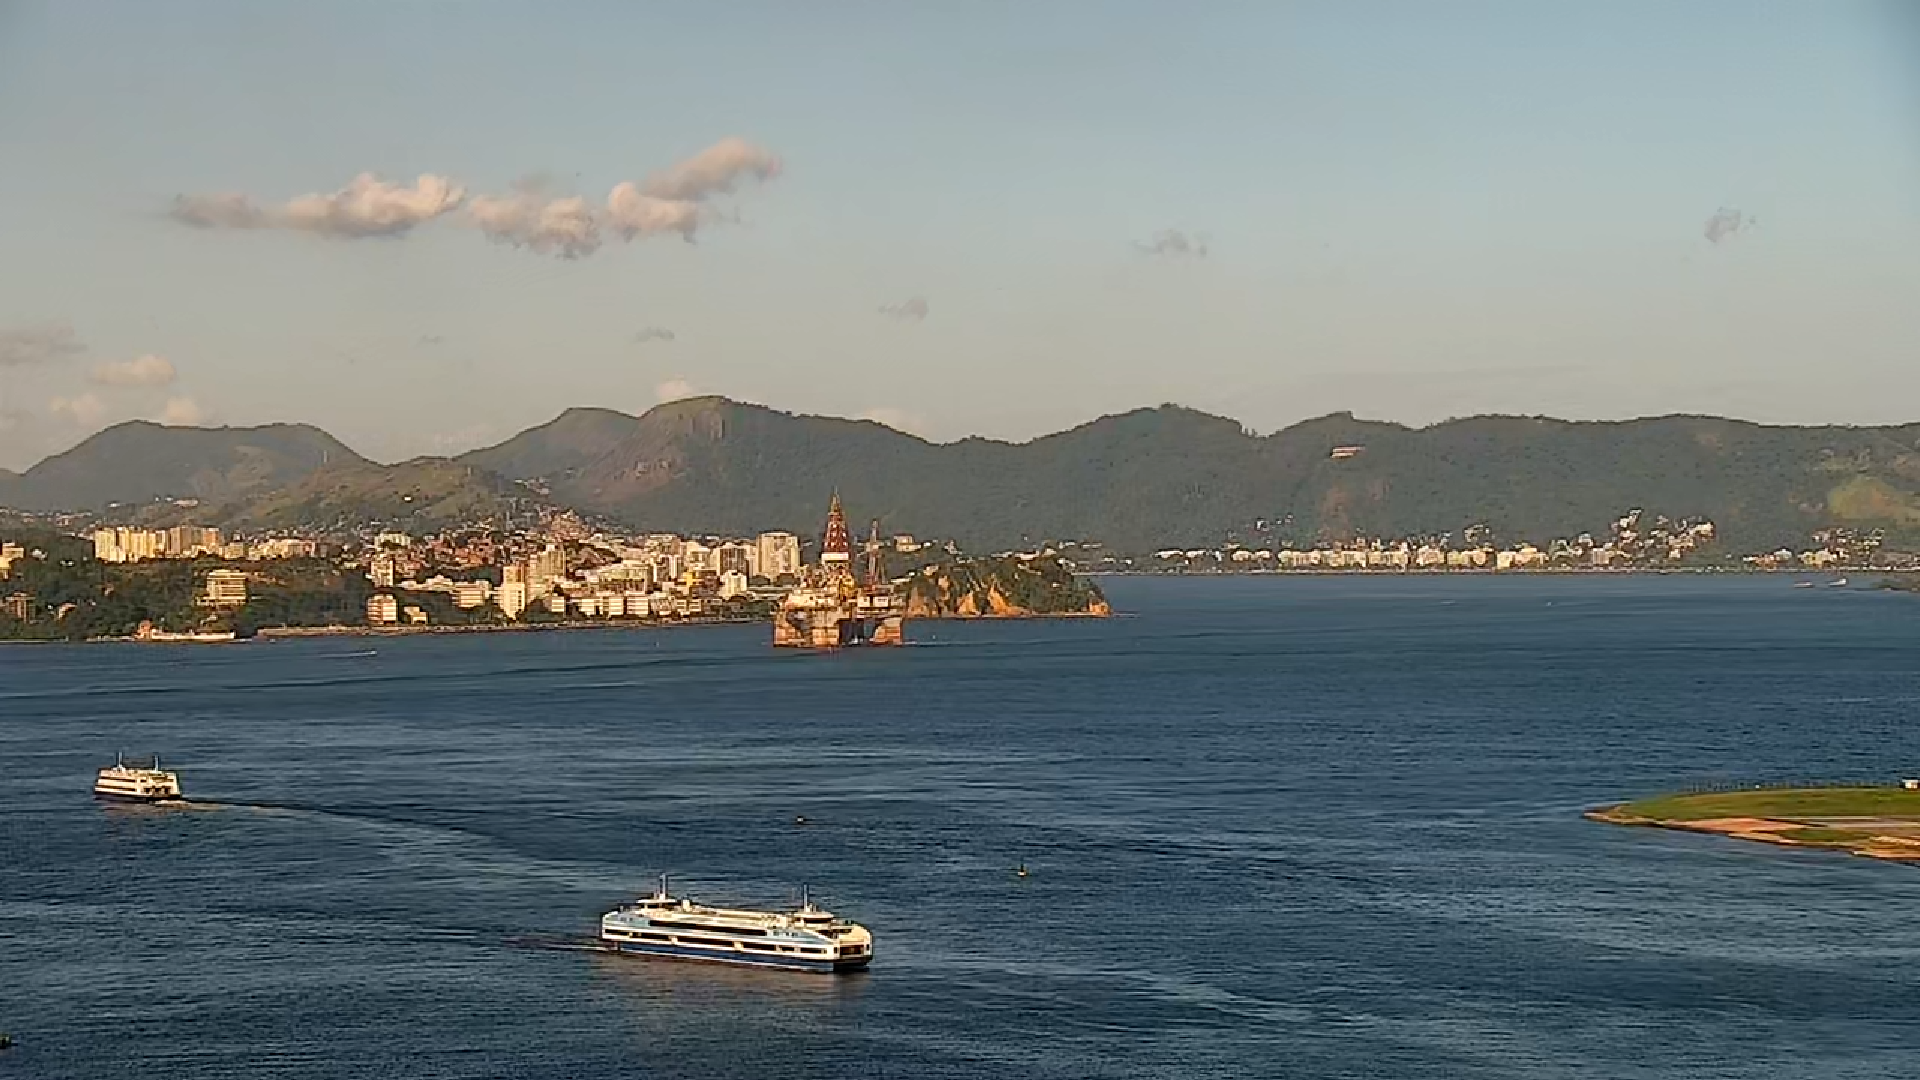Ship1: (593, 857, 880, 981), (91, 749, 186, 808)
